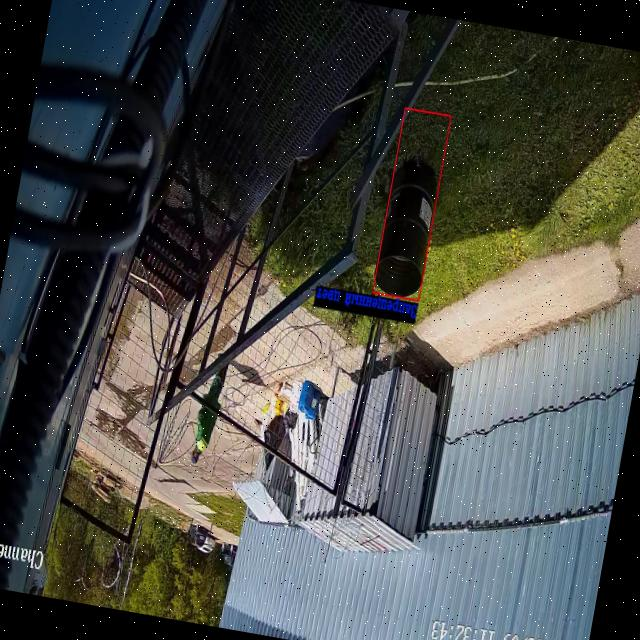Barrel: (373, 156, 440, 298)
Person: (190, 363, 227, 466)
